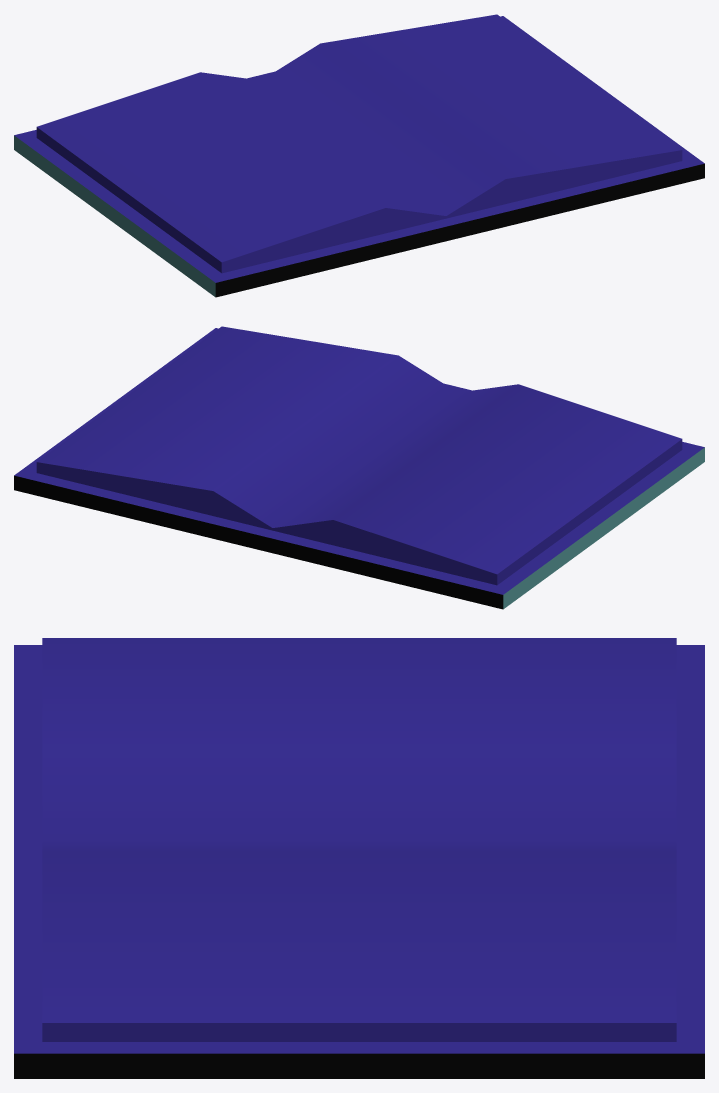
The model's file is livre_de_compte.FBX.
3 renders of one model, top to bottom at view 1: azimuth 30°, elevation 25°; view 2: azimuth 150°, elevation 25°; view 3: azimuth 270°, elevation 25°, orthographic. The views are drawn at different scales.
Visible parts, largest first — view 1: livre de compte; view 2: livre de compte; view 3: livre de compte.
Boxes of the visible parts, box(x1,y1,x2,y2) form: livre de compte: box(14, 14, 704, 297); livre de compte: box(14, 326, 704, 609); livre de compte: box(14, 638, 704, 1078).
Bounding box in the file's own units: 70 × 5.49 × 50.
